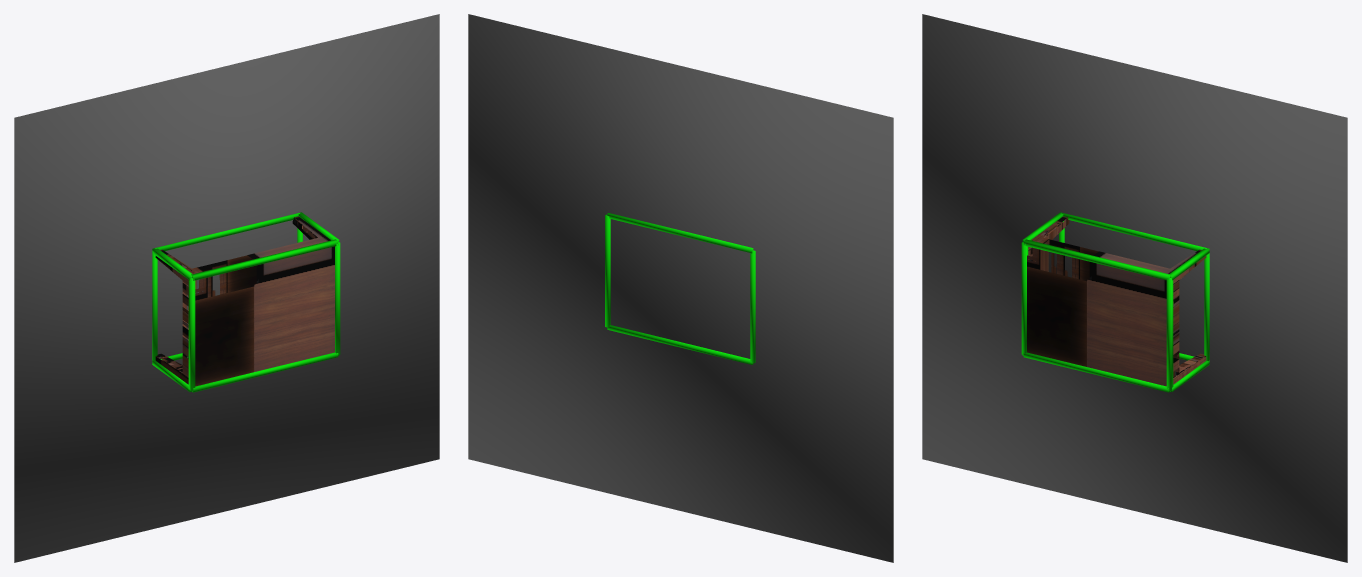
3 views of the same model, side by side, from view 1: azimuth 30°, elevation 25°; view 2: azimuth 150°, elevation 25°; view 3: azimuth 330°, elevation 25° (orthographic).
Size of the model in its own units: 2 by 2 by 0.326.
